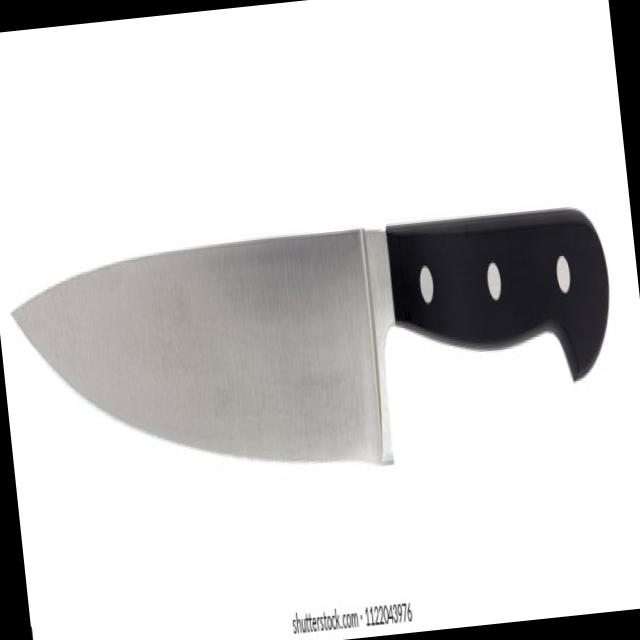Weapon: (0, 174, 640, 523)
